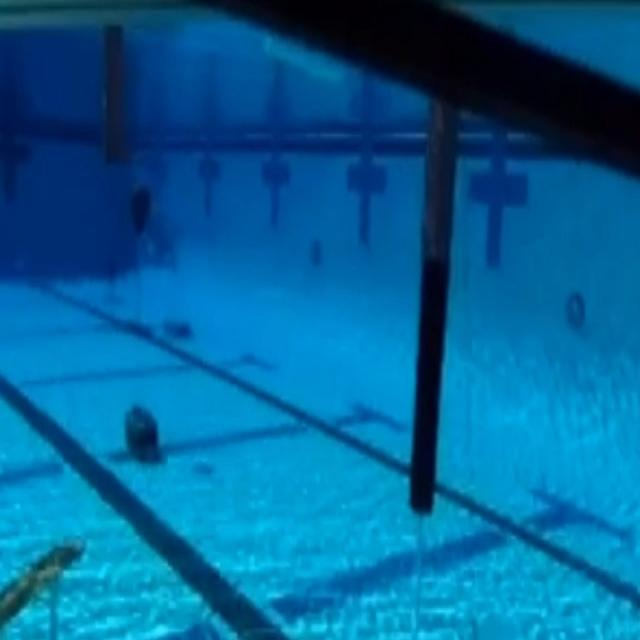Gate: (0, 0, 470, 537)
